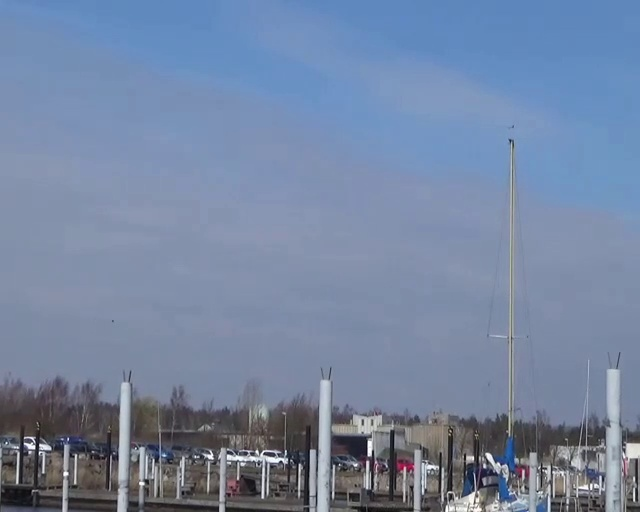BIRD: (413, 290, 424, 302)
